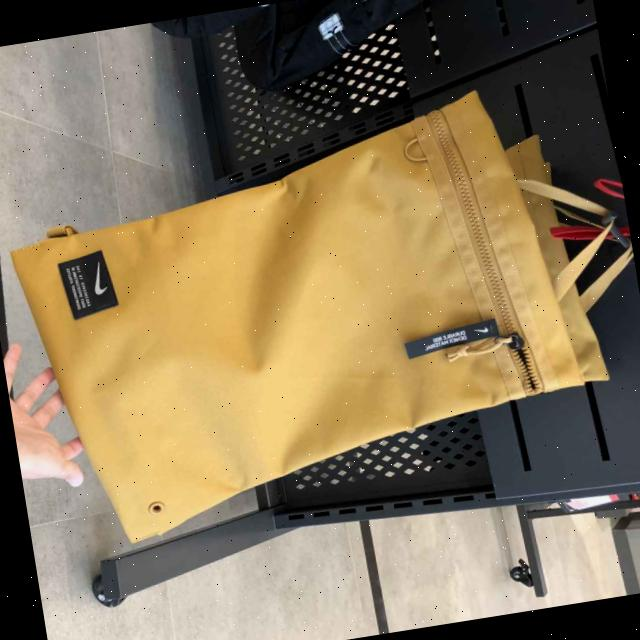Handbag: (0, 71, 640, 556)
